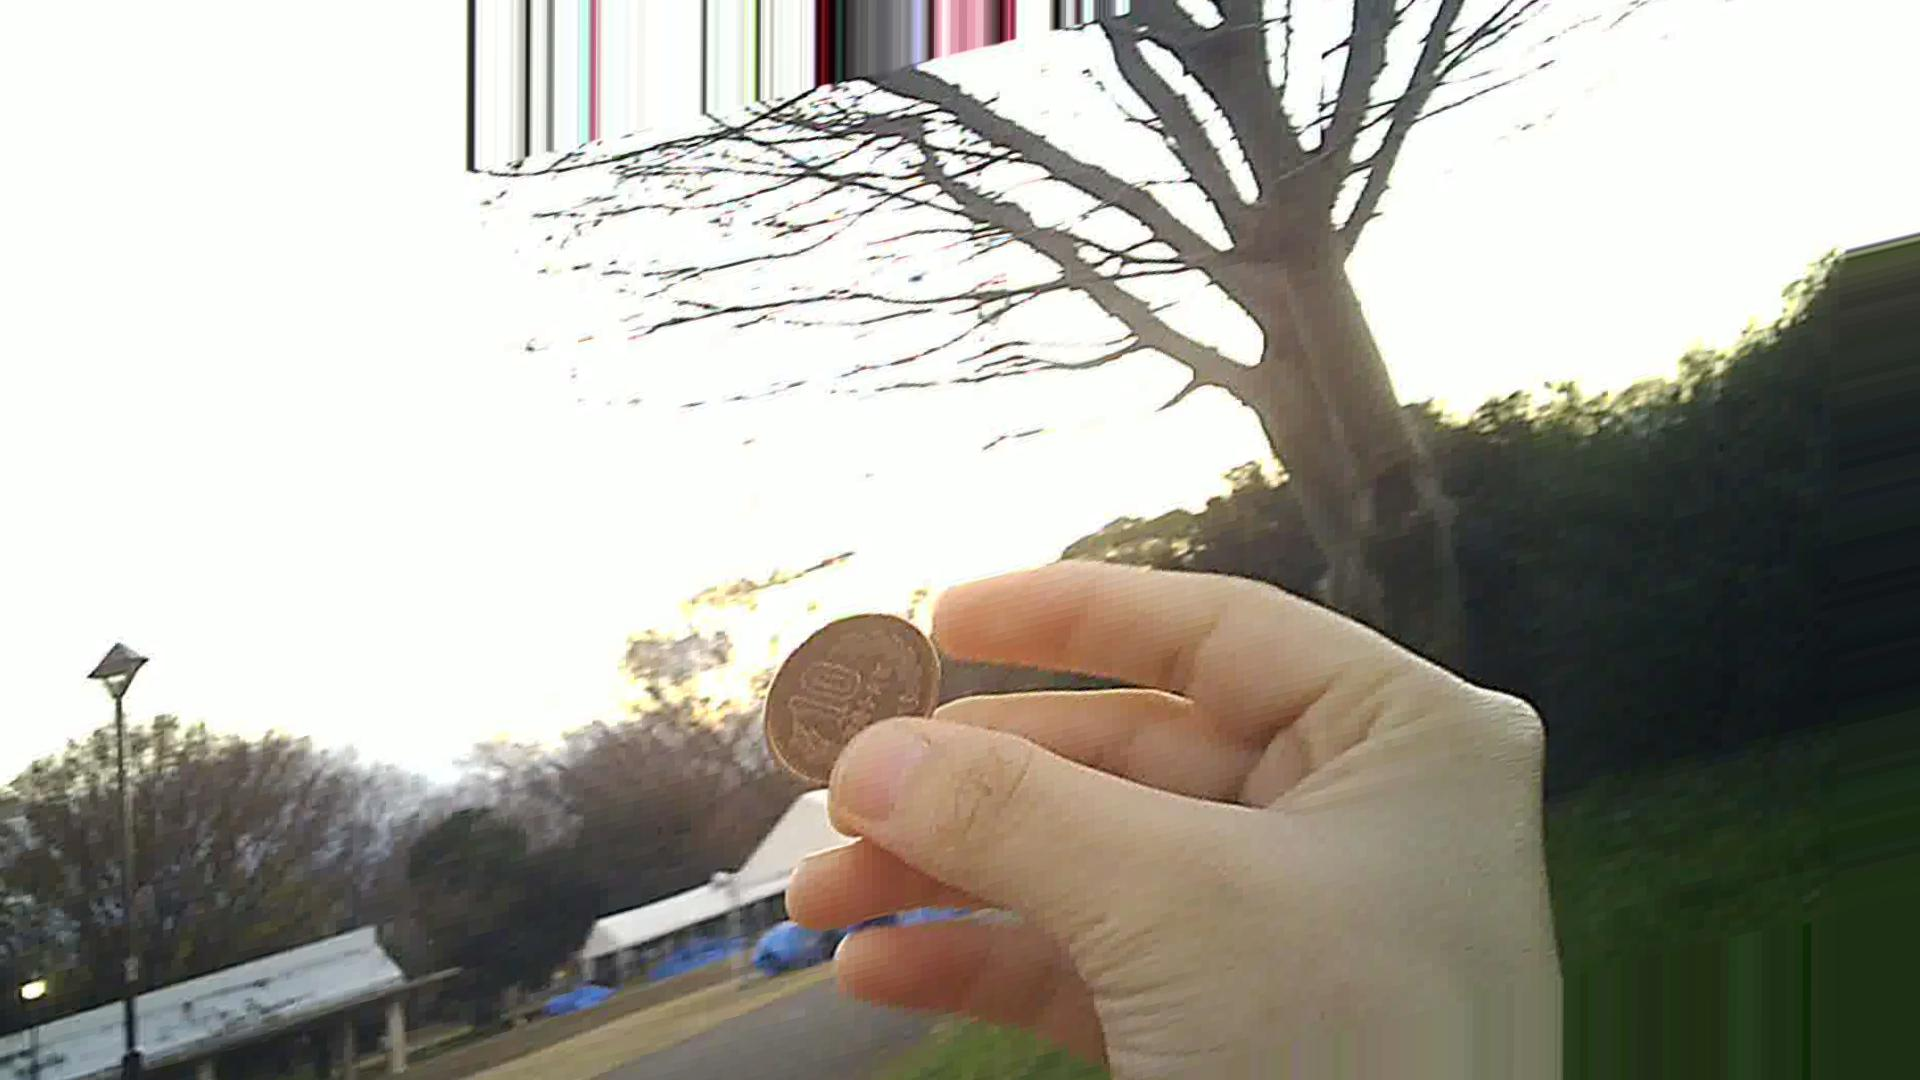10 Yen: (764, 611, 971, 803)
